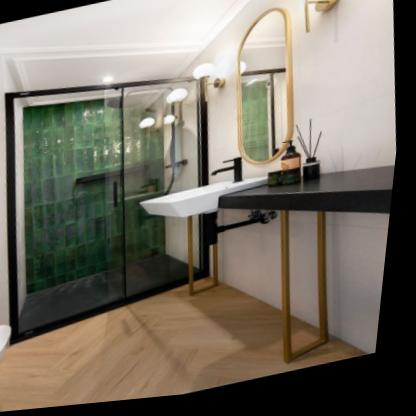Wooden floor: (0, 284, 373, 413)
